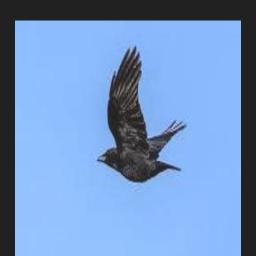Crow: (96, 46, 186, 181)
